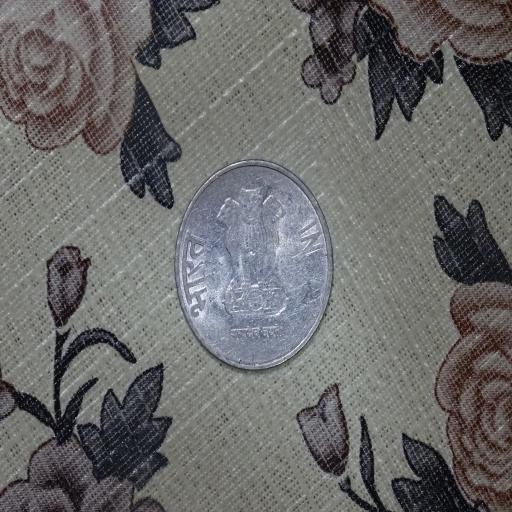rupee2: (174, 161, 333, 371)
